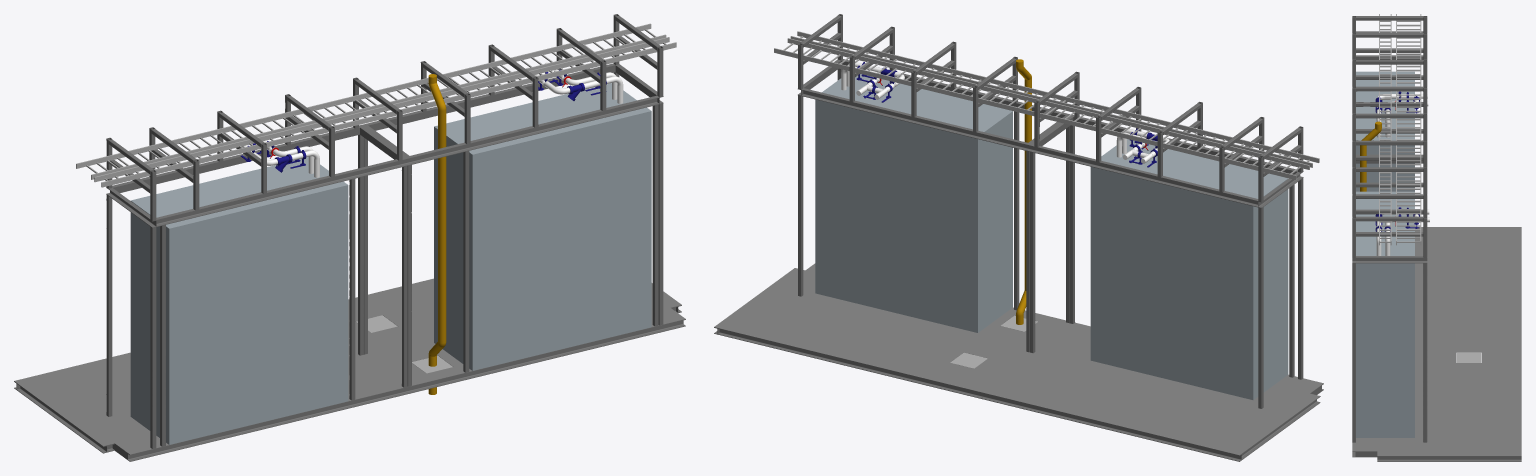
File: Skid_Type_4.glb
3 views of the same model, side by side, from view 1: azimuth 30°, elevation 25°; view 2: azimuth 150°, elevation 25°; view 3: azimuth 270°, elevation 25° (orthographic). The views are drawn at different scales.
Parts seen in each view (by area): view 1: Untitled.2053, Untitled.2054, Untitled.2607, Untitled.2004, Untitled.2008, Untitled.908, Untitled.2080, Untitled.887, Untitled.2622, Untitled.2214, Untitled.2215, Untitled.2118 (+9 smaller); view 2: Untitled.2054, Untitled.2053, Untitled.2607, Untitled.2008, Untitled.2004, Untitled.887, Untitled.901, Untitled.908, Untitled.2211, Untitled.2208, Untitled.2212, Untitled.2214 (+6 smaller); view 3: Untitled.2607, Untitled.2054, Untitled.2053, Untitled.2008, Untitled.2004, Untitled.2212, Untitled.2084, Untitled.2213, Untitled.2113, Untitled.2271, Untitled.2266, Untitled.2254 (+19 smaller).
Boxes of the visible parts, x1=… form: Untitled.2053: x1=130, y1=157, x2=348, y2=444; Untitled.2054: x1=434, y1=83, x2=651, y2=370; Untitled.2607: x1=14, y1=278, x2=685, y2=454; Untitled.2004: x1=94, y1=37, x2=676, y2=187; Untitled.2008: x1=76, y1=23, x2=666, y2=179; Untitled.908: x1=156, y1=95, x2=659, y2=226; Untitled.2080: x1=127, y1=319, x2=685, y2=461; Untitled.887: x1=112, y1=63, x2=615, y2=192; Untitled.2622: x1=438, y1=111, x2=446, y2=341; Untitled.2214: x1=150, y1=227, x2=156, y2=448; Untitled.2215: x1=463, y1=151, x2=469, y2=372; Untitled.2118: x1=652, y1=104, x2=658, y2=326; Untitled.2054: x1=815, y1=74, x2=1012, y2=332; Untitled.2053: x1=1090, y1=139, x2=1288, y2=400; Untitled.2607: x1=714, y1=263, x2=1323, y2=455; Untitled.2008: x1=774, y1=38, x2=1309, y2=179; Untitled.2004: x1=790, y1=31, x2=1319, y2=167; Untitled.887: x1=801, y1=88, x2=1258, y2=207; Untitled.901: x1=717, y1=328, x2=1241, y2=461; Untitled.908: x1=841, y1=59, x2=1297, y2=174; Untitled.2211: x1=1258, y1=207, x2=1263, y2=408; Untitled.2208: x1=1030, y1=152, x2=1035, y2=353; Untitled.2212: x1=798, y1=95, x2=803, y2=296; Untitled.2214: x1=1298, y1=178, x2=1303, y2=379; Untitled.2607: x1=1352, y1=227, x2=1521, y2=456; Untitled.2054: x1=1356, y1=191, x2=1414, y2=437; Untitled.2053: x1=1356, y1=71, x2=1414, y2=191; Untitled.2008: x1=1396, y1=14, x2=1421, y2=245; Untitled.2004: x1=1379, y1=14, x2=1391, y2=245; Untitled.2212: x1=1423, y1=263, x2=1427, y2=442; Untitled.2084: x1=1377, y1=456, x2=1521, y2=461; Untitled.2213: x1=1352, y1=263, x2=1355, y2=442; Untitled.2113: x1=1352, y1=256, x2=1427, y2=263; Untitled.2271: x1=1356, y1=140, x2=1423, y2=145; Untitled.2266: x1=1356, y1=86, x2=1423, y2=91; Untitled.2254: x1=1356, y1=216, x2=1423, y2=221.
Bounding box in the file's own units: 12.8 × 6.71 × 4.
